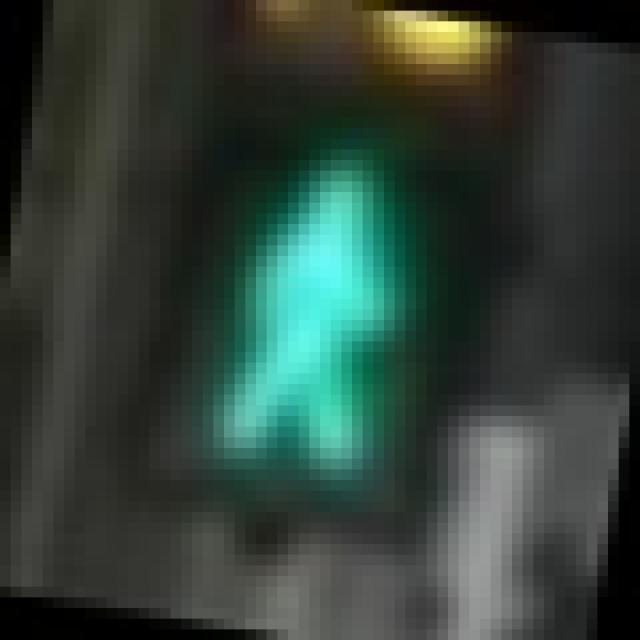geen-crossing: (106, 64, 502, 534)
